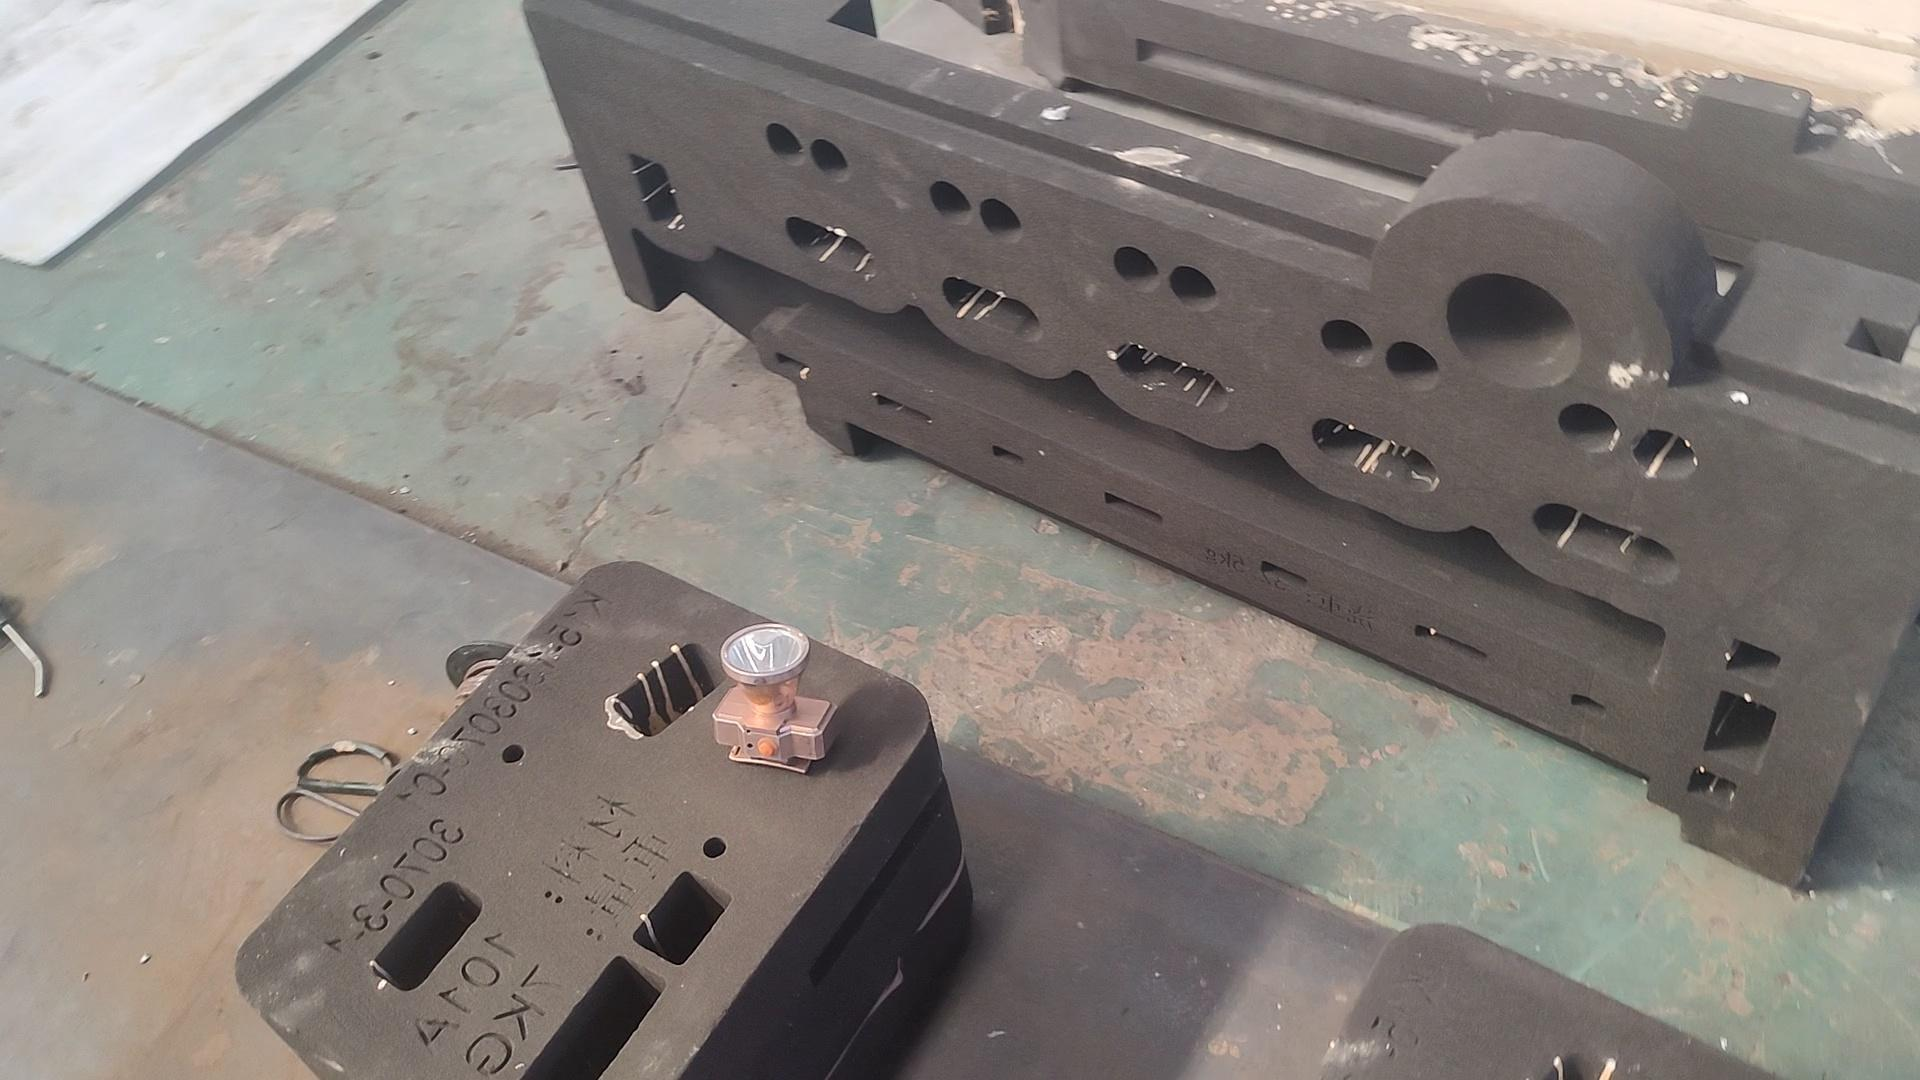pouring hole: (1447, 273, 1578, 389)
